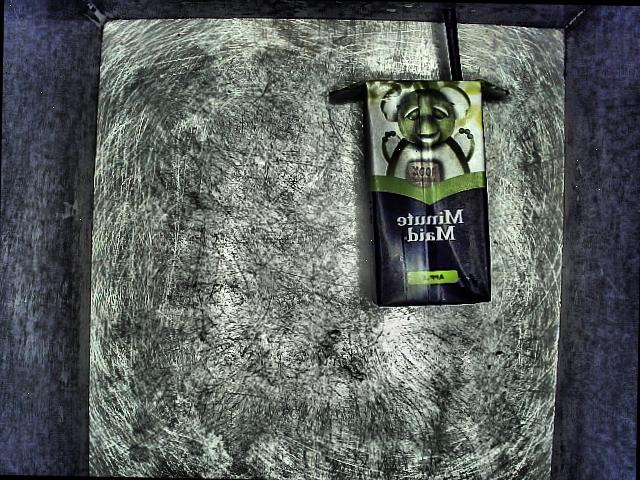Paper: (312, 0, 516, 351)
